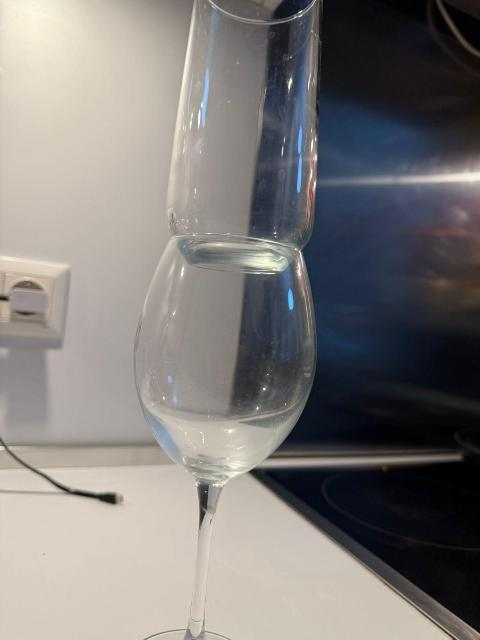Cam: (129, 241, 310, 640), (172, 0, 316, 243), (152, 0, 159, 8)
